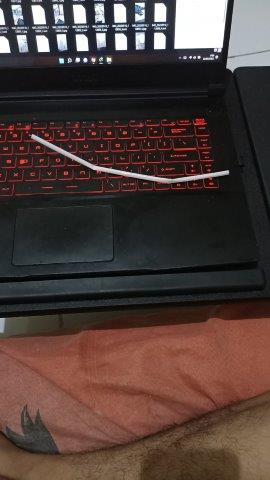sedotan: (31, 134, 228, 183)
